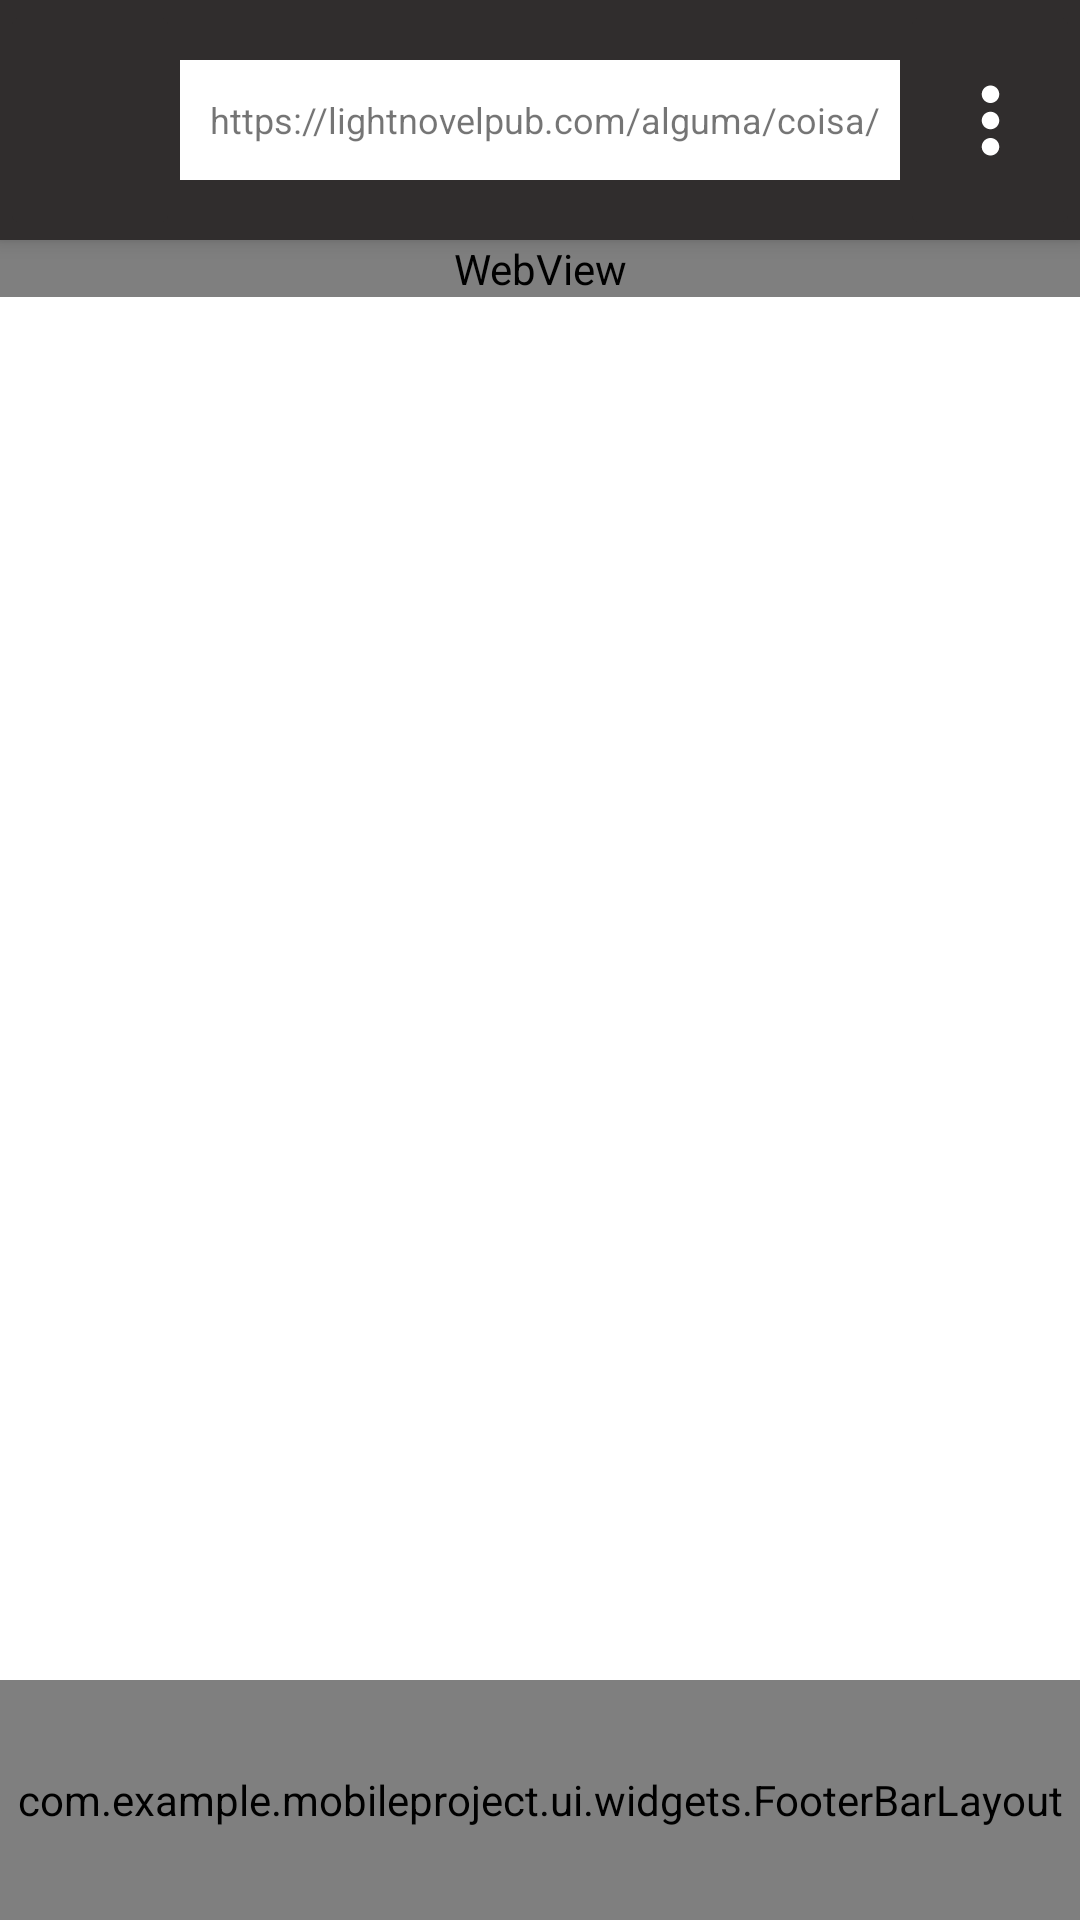

Named icons in this screenshot (1080x1920) and their centers, (x=x, y=y):
more vert: (x=990, y=120)
